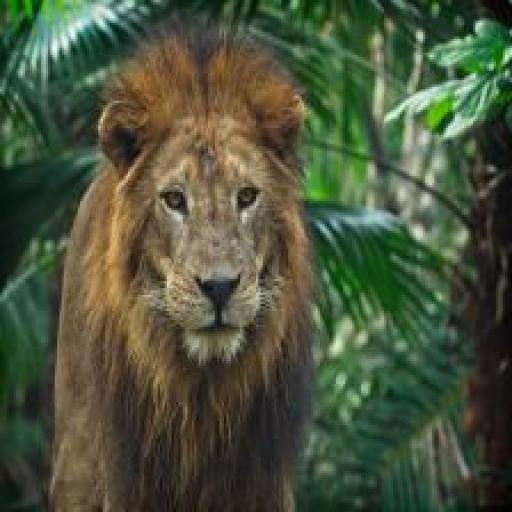lion: (41, 9, 319, 508)
